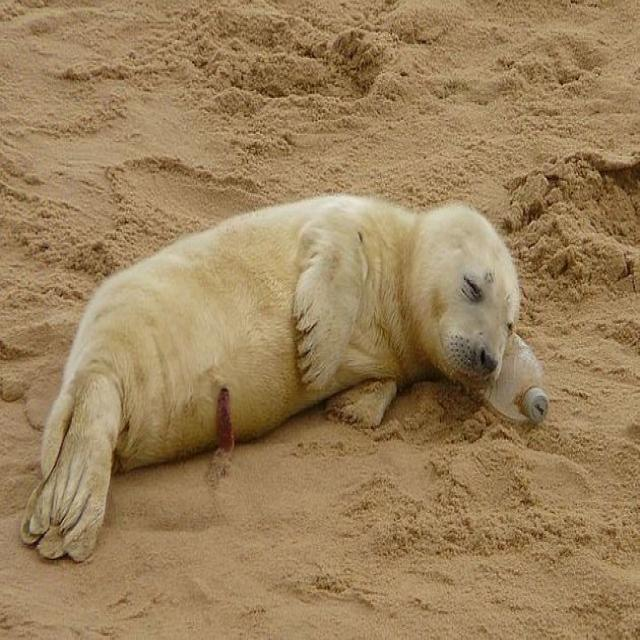WaterDog: (16, 182, 522, 565)
